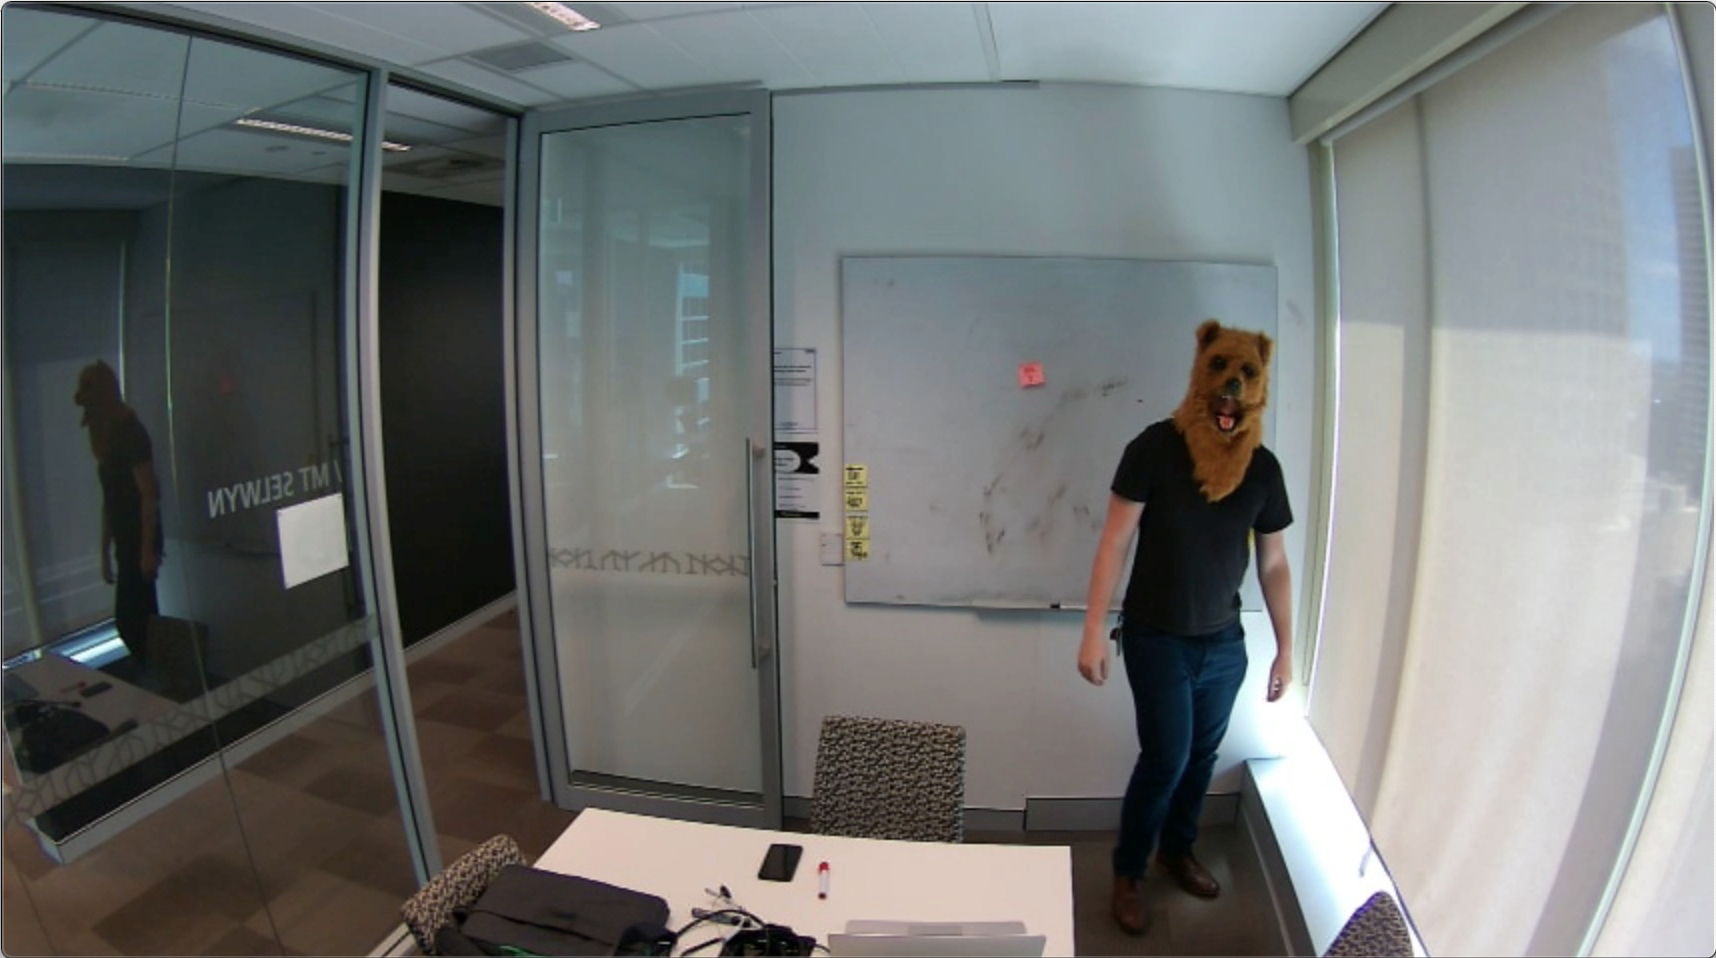Bear: (1192, 313, 1275, 452)
